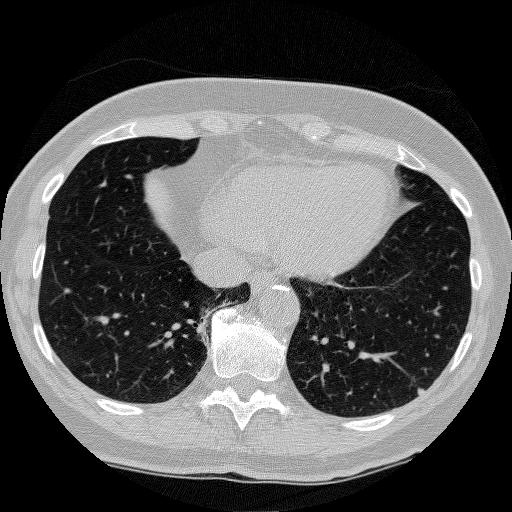nodule: (413, 384, 427, 398)
